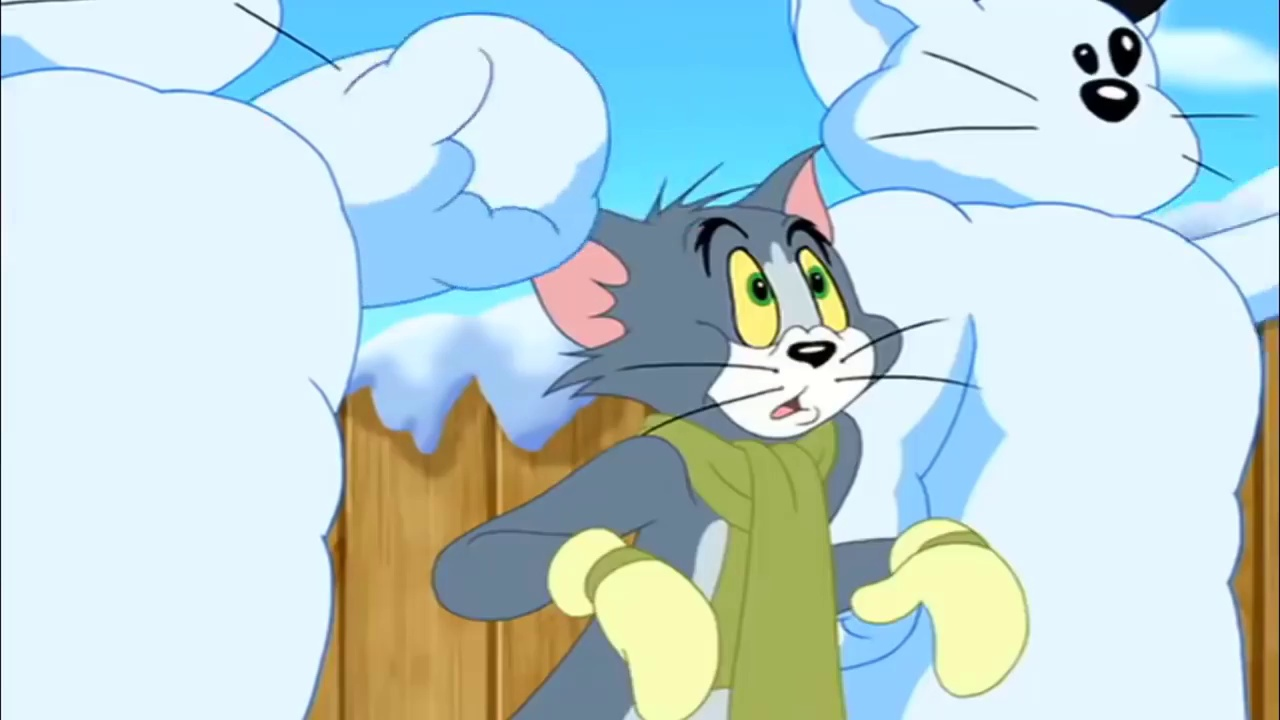face: (686, 214, 877, 441)
